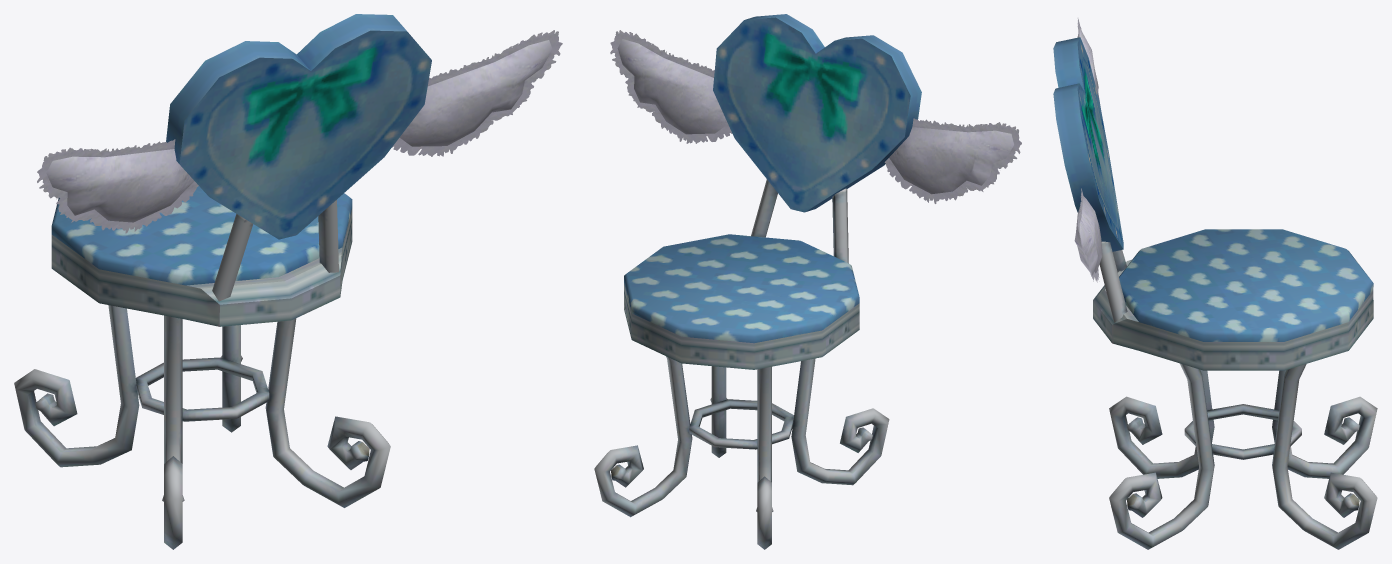
File: furni_0200010_03.FBX
3 views of the same model, side by side, from view 1: azimuth 30°, elevation 25°; view 2: azimuth 150°, elevation 25°; view 3: azimuth 270°, elevation 25° (orthographic). The views are drawn at different scales.
Visible parts, largest first — view 1: furni_0200010_03; view 2: furni_0200010_03; view 3: furni_0200010_03.
Boxes of the visible parts, left/top/right/bottom form: furni_0200010_03: left=14, top=14, right=562, bottom=549; furni_0200010_03: left=594, top=14, right=1021, bottom=549; furni_0200010_03: left=1053, top=18, right=1377, bottom=549.
Bounding box in the file's own units: 94.33 × 90.14 × 59.02.
1 material, 1 textured.
